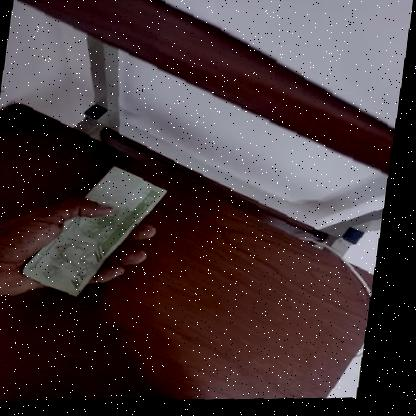fifty-back-vef: (25, 165, 174, 300)
